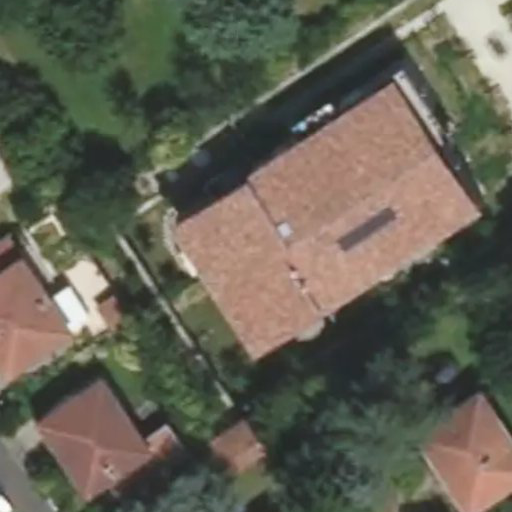pool: (219, 218, 293, 265)
